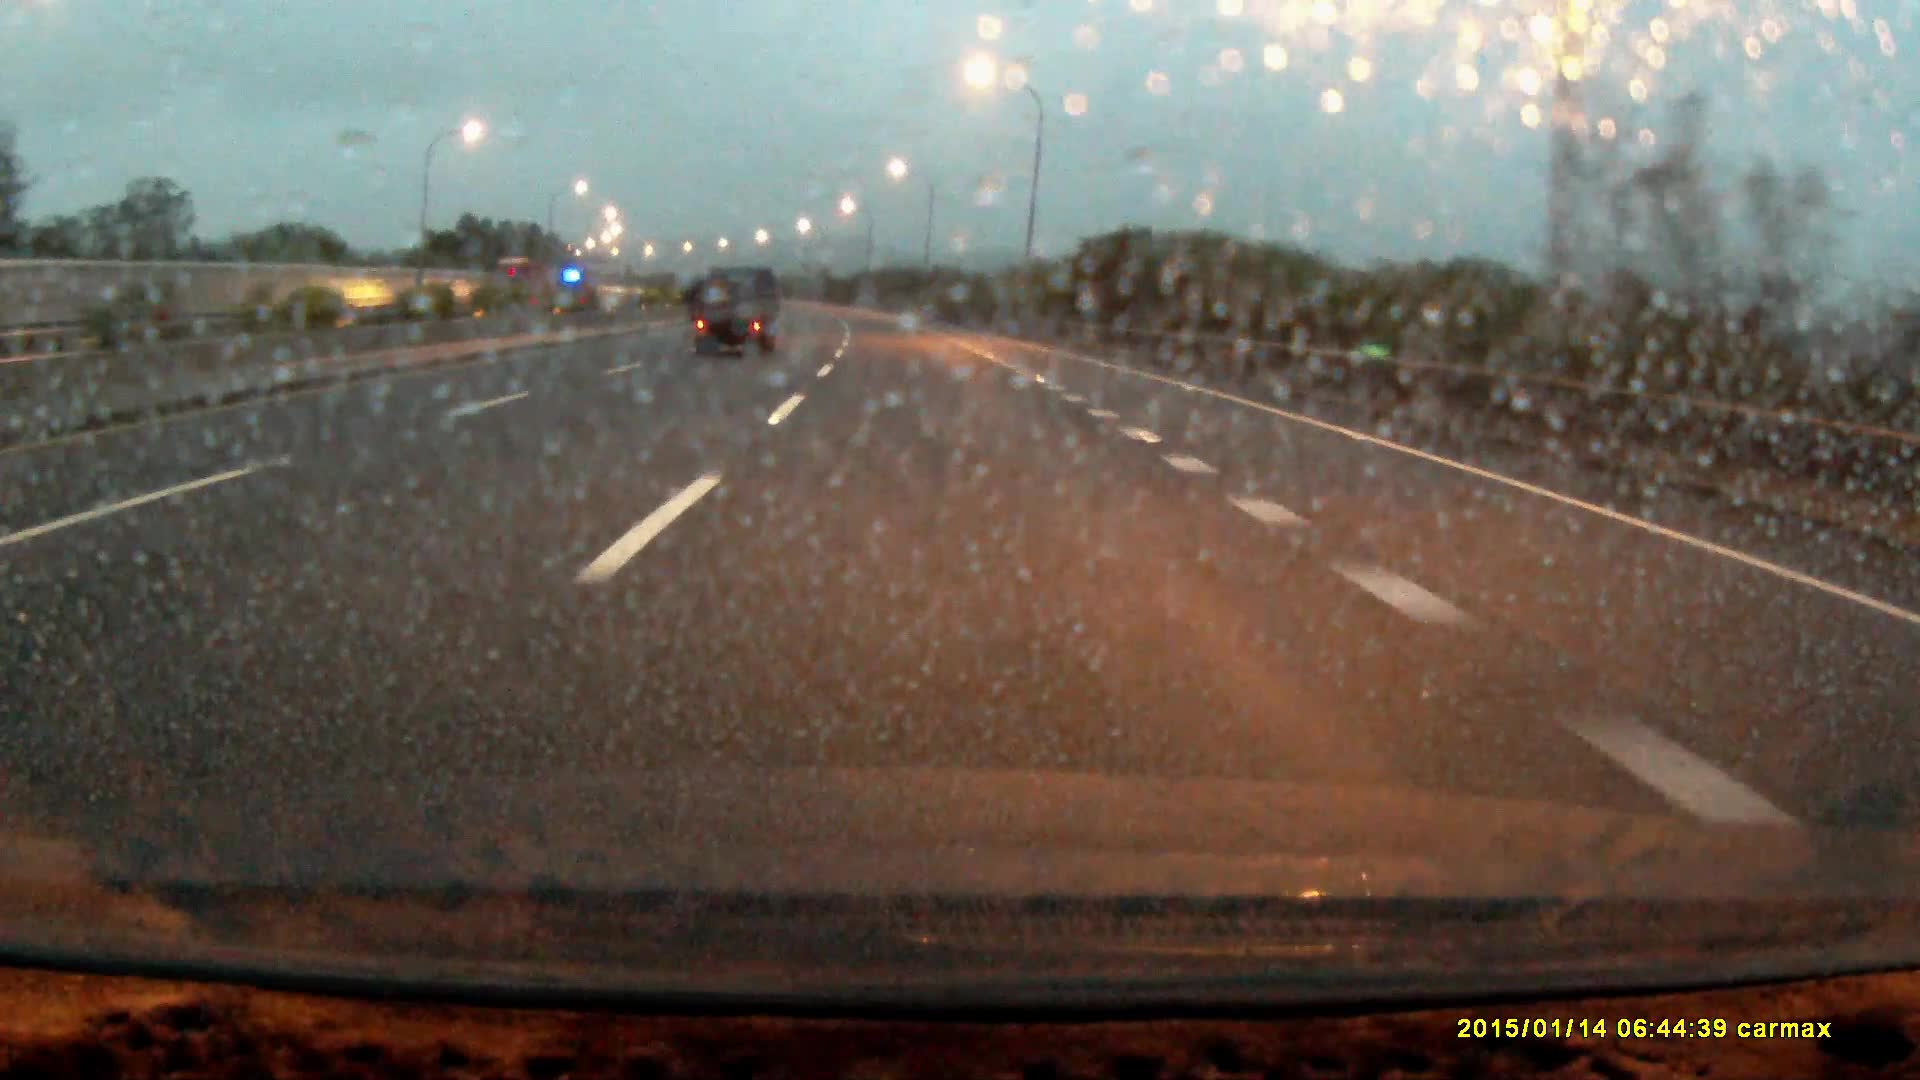vehicle: (696, 266, 775, 360), (492, 258, 551, 309)
